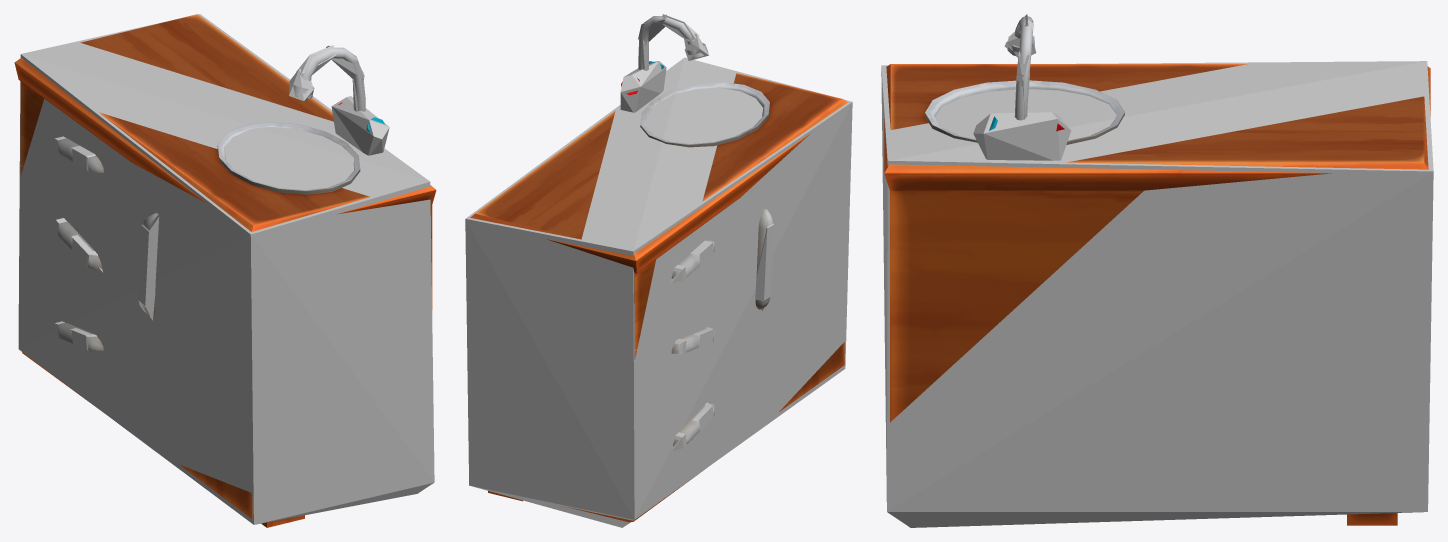
File: SM_KitchenFurniture01_1.fbx
3 views of the same model, side by side, from view 1: azimuth 30°, elevation 25°; view 2: azimuth 150°, elevation 25°; view 3: azimuth 270°, elevation 25° (orthographic). The views are drawn at different scales.
Parts seen in each view (by area): view 1: SM_KitchenFurniture01_1_ConvexHulls, SM_KitchenFurniture01_1; view 2: SM_KitchenFurniture01_1_ConvexHulls, SM_KitchenFurniture01_1; view 3: SM_KitchenFurniture01_1_ConvexHulls, SM_KitchenFurniture01_1.
Boxes of the visible parts, bbox=[...] form: SM_KitchenFurniture01_1_ConvexHulls: bbox=[18, 14, 434, 524]; SM_KitchenFurniture01_1: bbox=[14, 14, 436, 527]; SM_KitchenFurniture01_1_ConvexHulls: bbox=[465, 14, 852, 527]; SM_KitchenFurniture01_1: bbox=[470, 16, 847, 522]; SM_KitchenFurniture01_1_ConvexHulls: bbox=[881, 14, 1433, 527]; SM_KitchenFurniture01_1: bbox=[884, 16, 1430, 525].
Size of the model in its own units: 63.39 by 134 by 130.
Materials: 2 (1 with a texture image).
